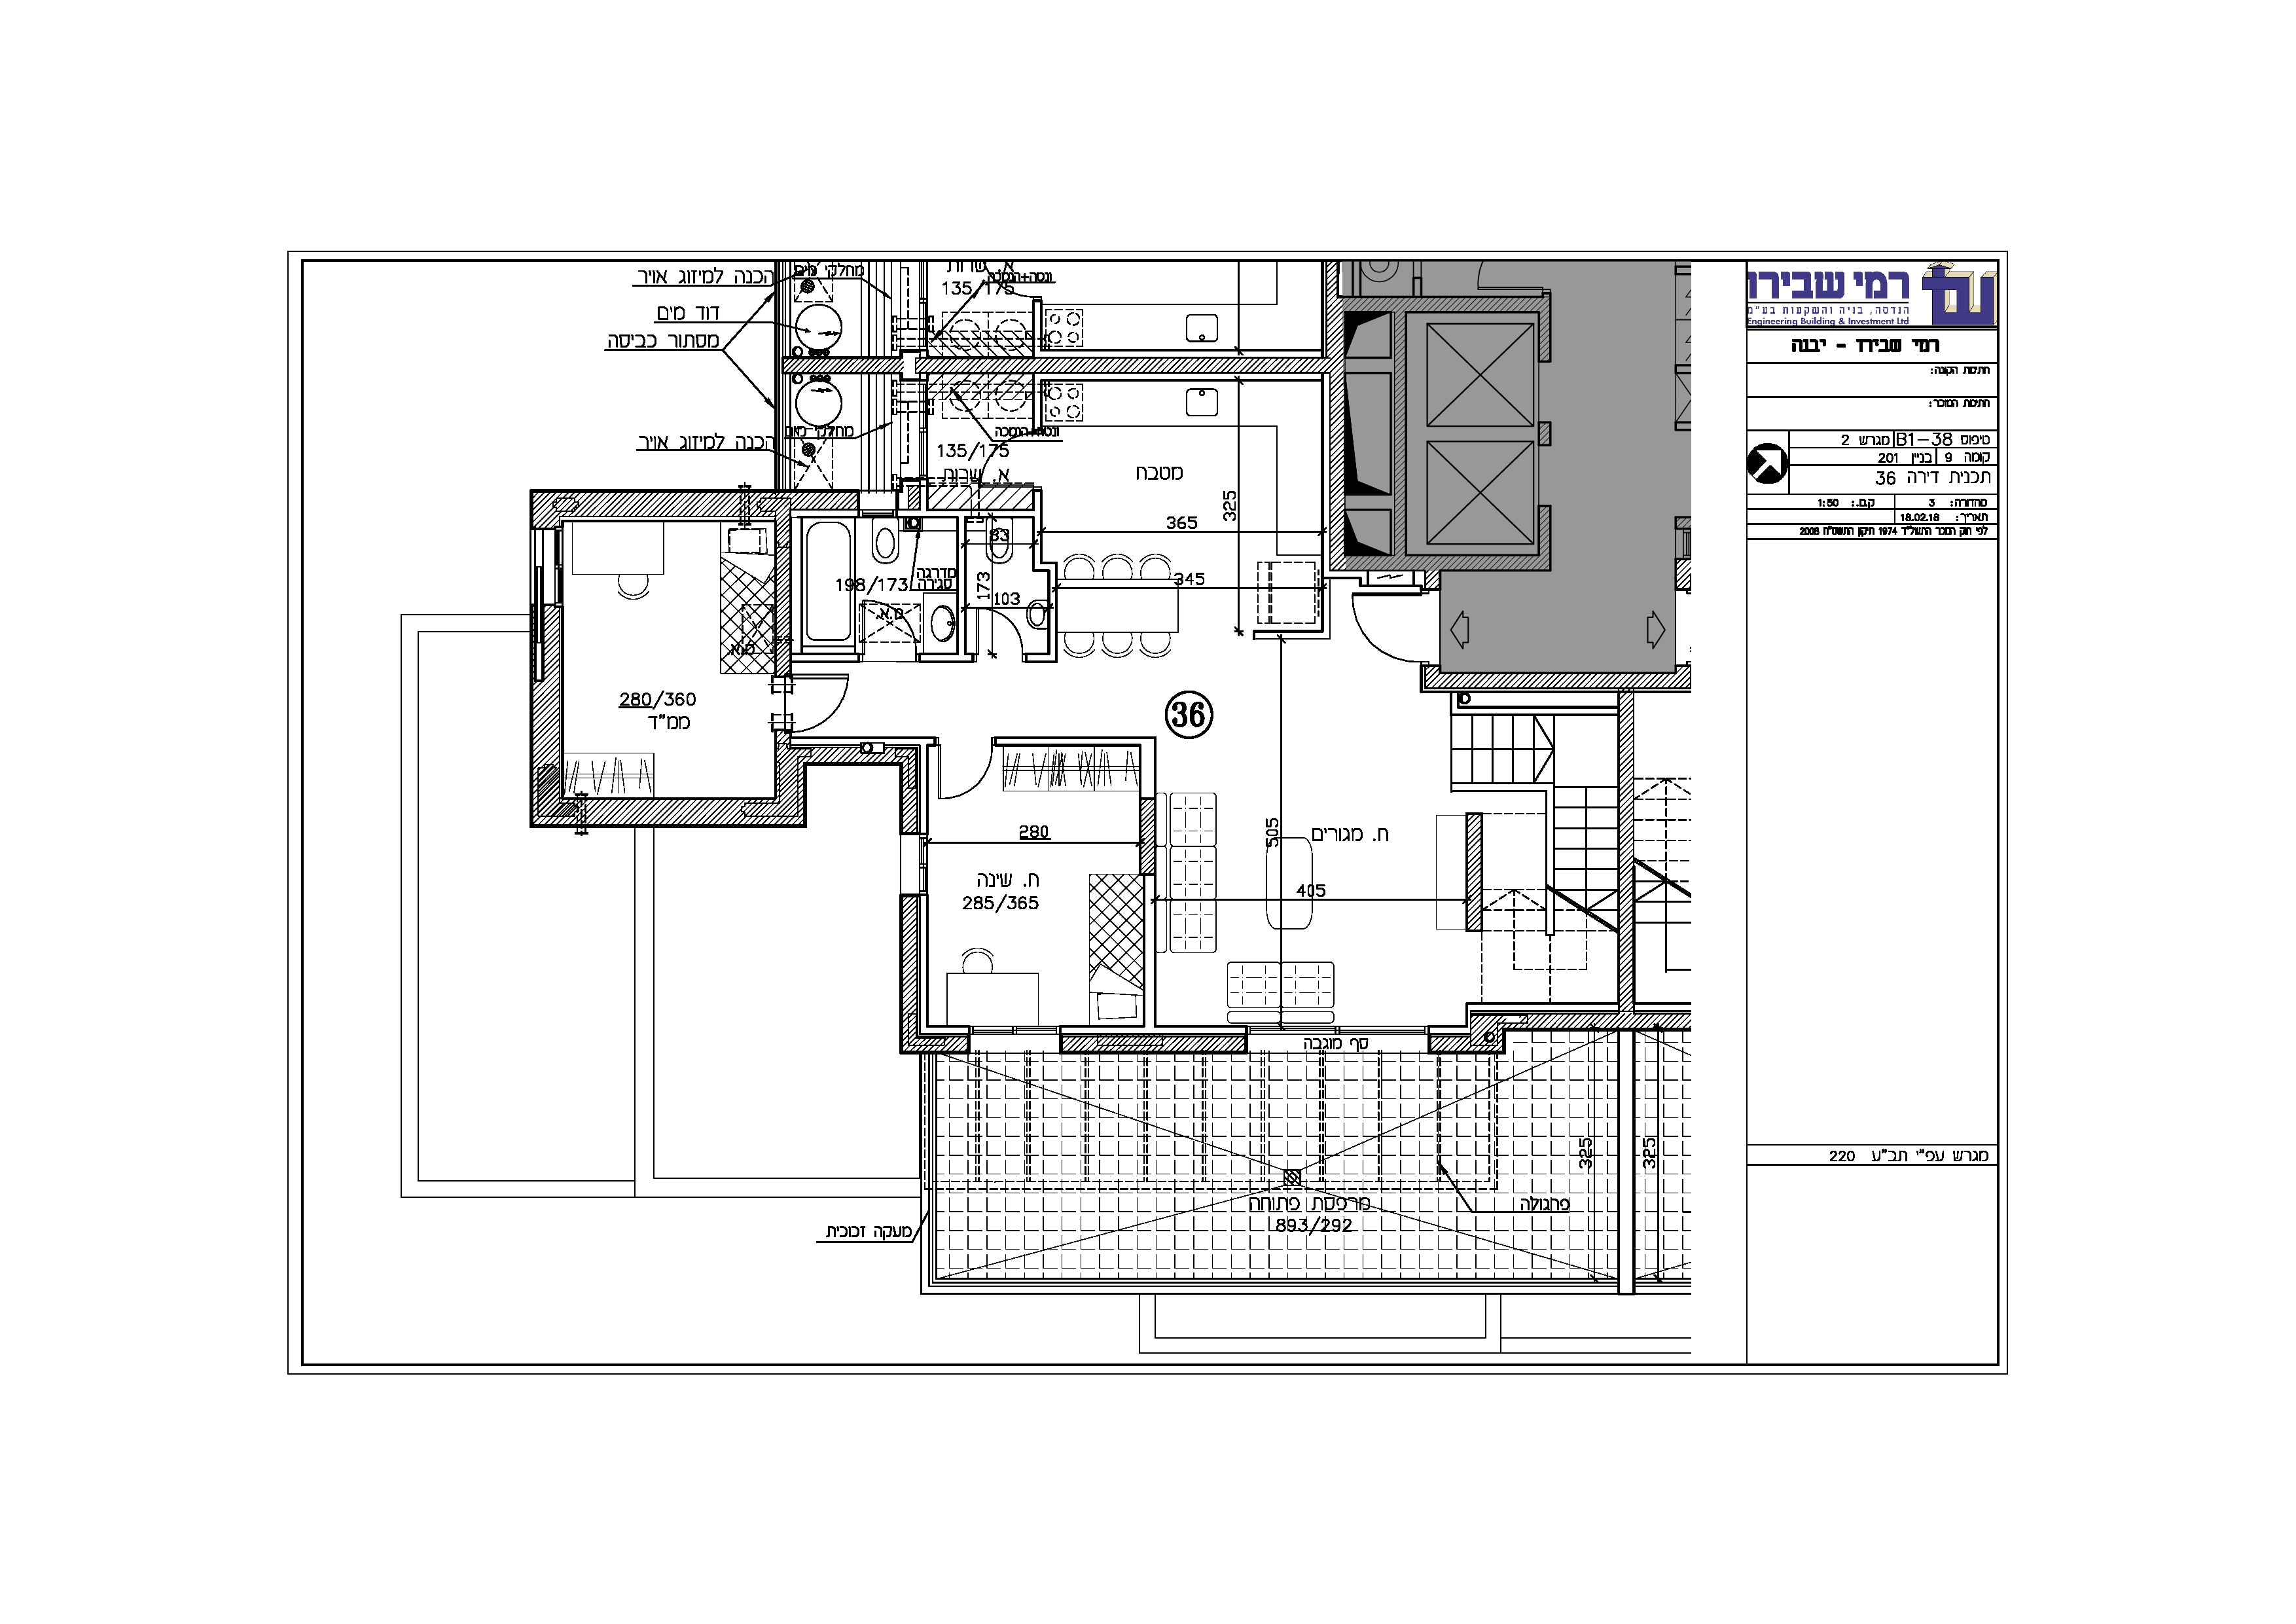door: (1337, 589, 1418, 675), (792, 671, 863, 731), (935, 756, 998, 807)
wall: (917, 359, 1316, 374), (1621, 692, 1634, 1000), (1393, 294, 1407, 554), (578, 496, 724, 518), (1328, 292, 1340, 559), (596, 801, 731, 824), (1342, 555, 1549, 568), (1340, 297, 1548, 309)
window: (1245, 1019, 1430, 1053), (963, 1019, 1063, 1056), (894, 831, 935, 895)
